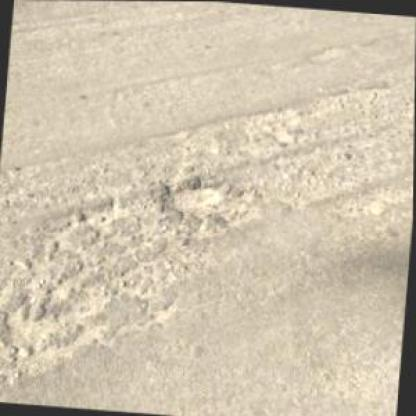pothole: (161, 179, 230, 215)
